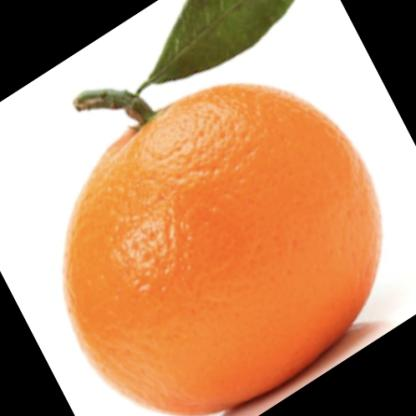fresh: (66, 84, 384, 416)
